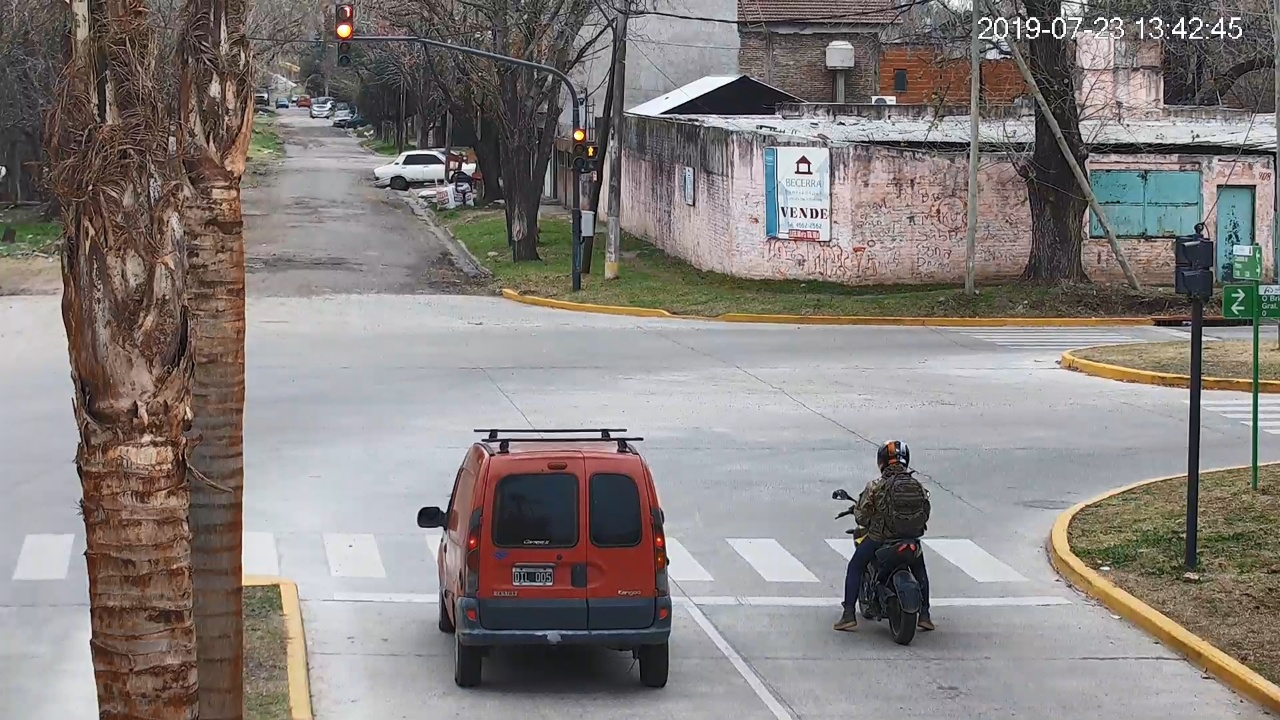car: (417, 430, 672, 687)
motorcycle: (831, 471, 931, 643)
traffic light: (571, 129, 587, 170), (337, 23, 352, 66)
